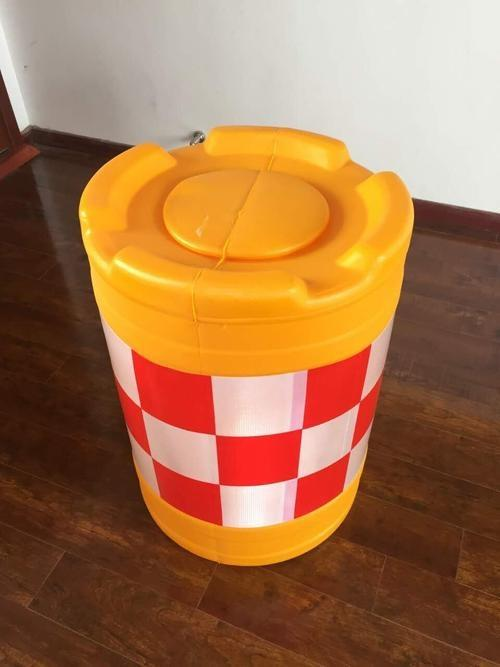cone_barrel: (78, 123, 417, 567)
